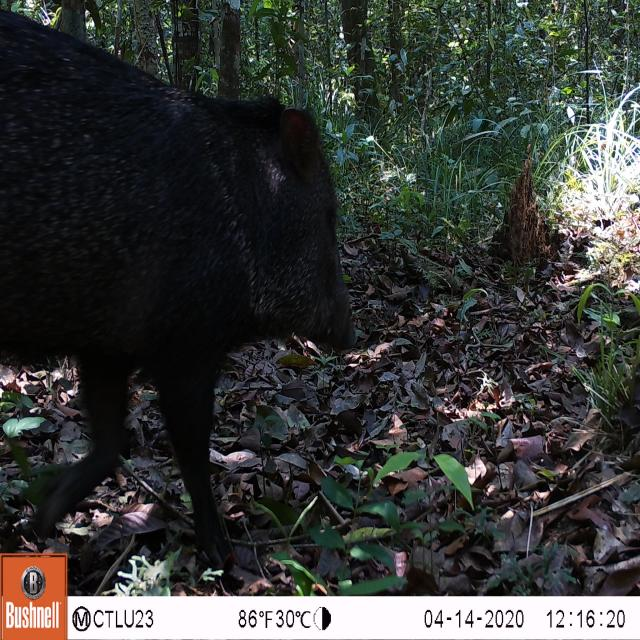Collared Peccary: (0, 15, 423, 548)
